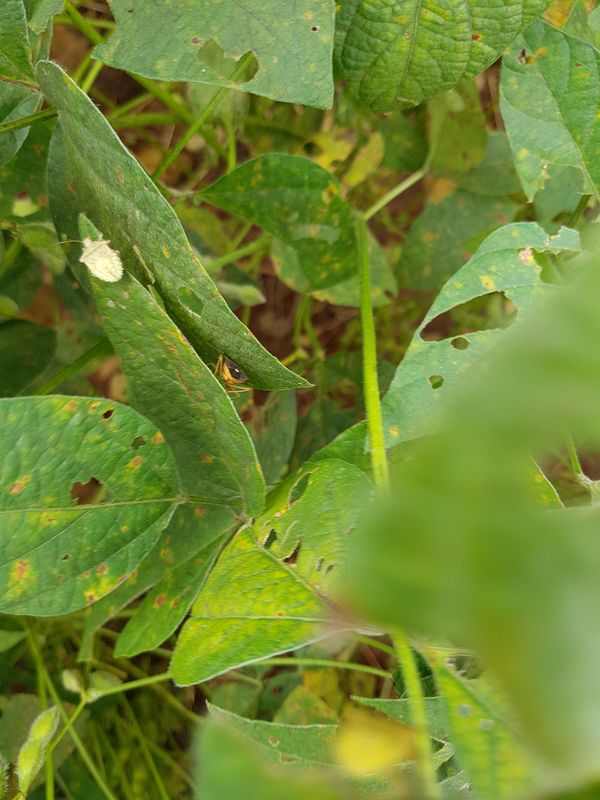Euschistus_heros_adulto: (198, 347, 257, 402)
Euschistus_heros_ninfa: (70, 227, 132, 289)
